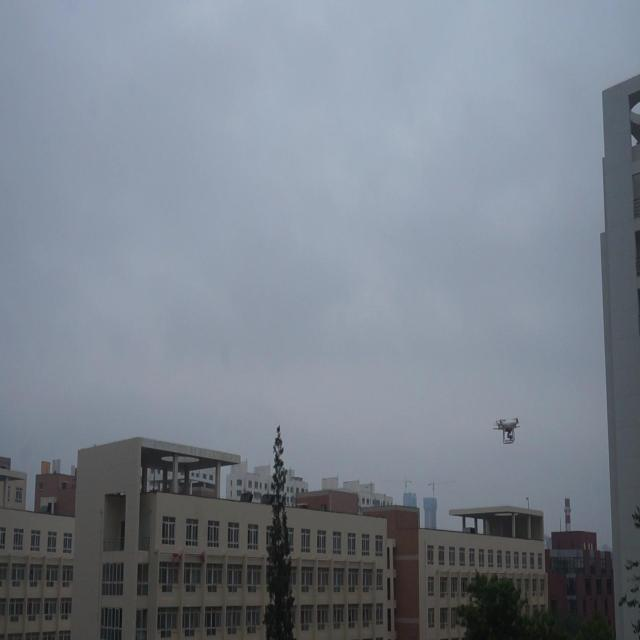drone: (492, 412, 521, 446)
